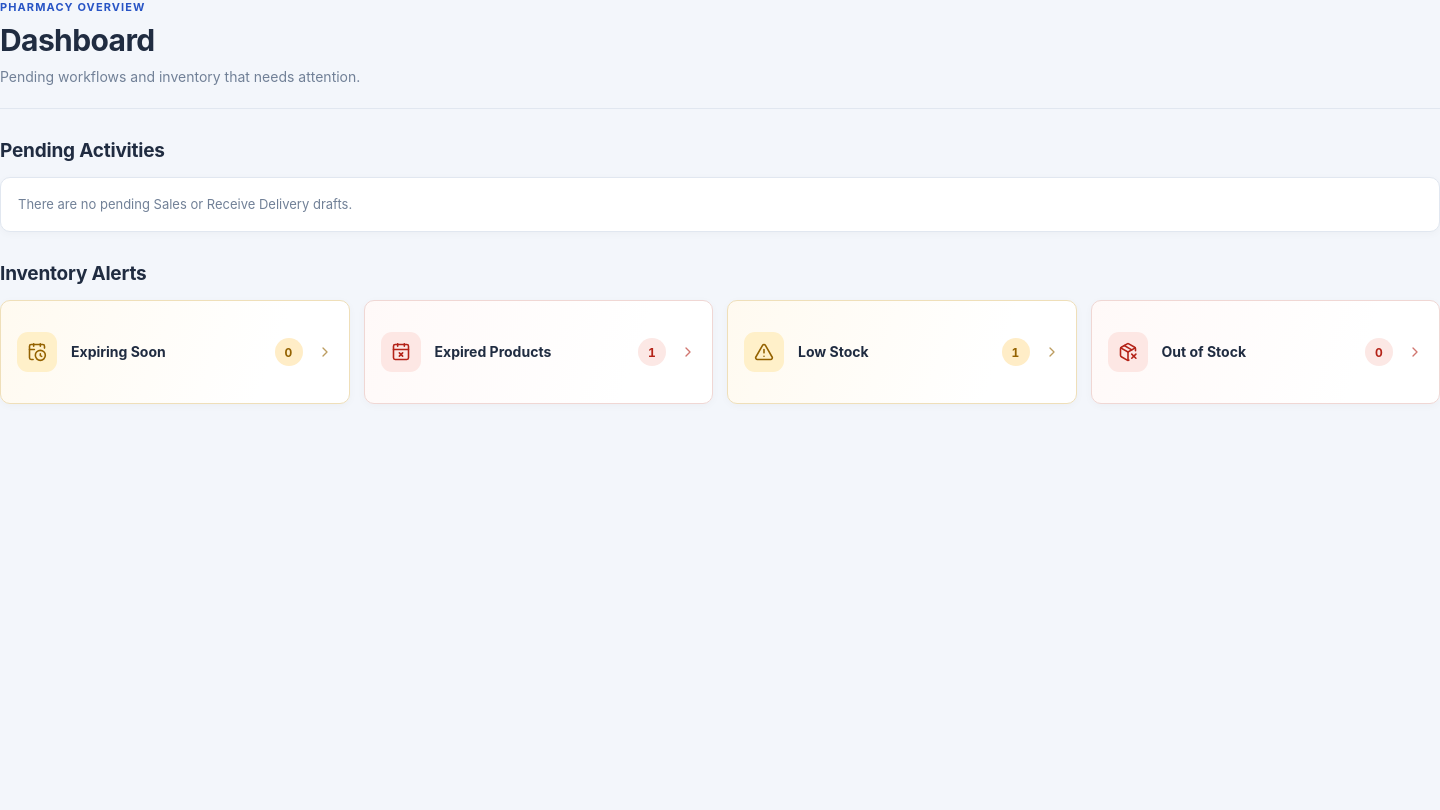
Test: Dashboard inventory alerts › keeps positive-stock expired batches eligible alongside zero-stock batches
Click the button with aria-label "Open Expired Products details, 1 affected product/variant". click: (538, 352)
box: x1=364 y1=300 x2=713 y2=404
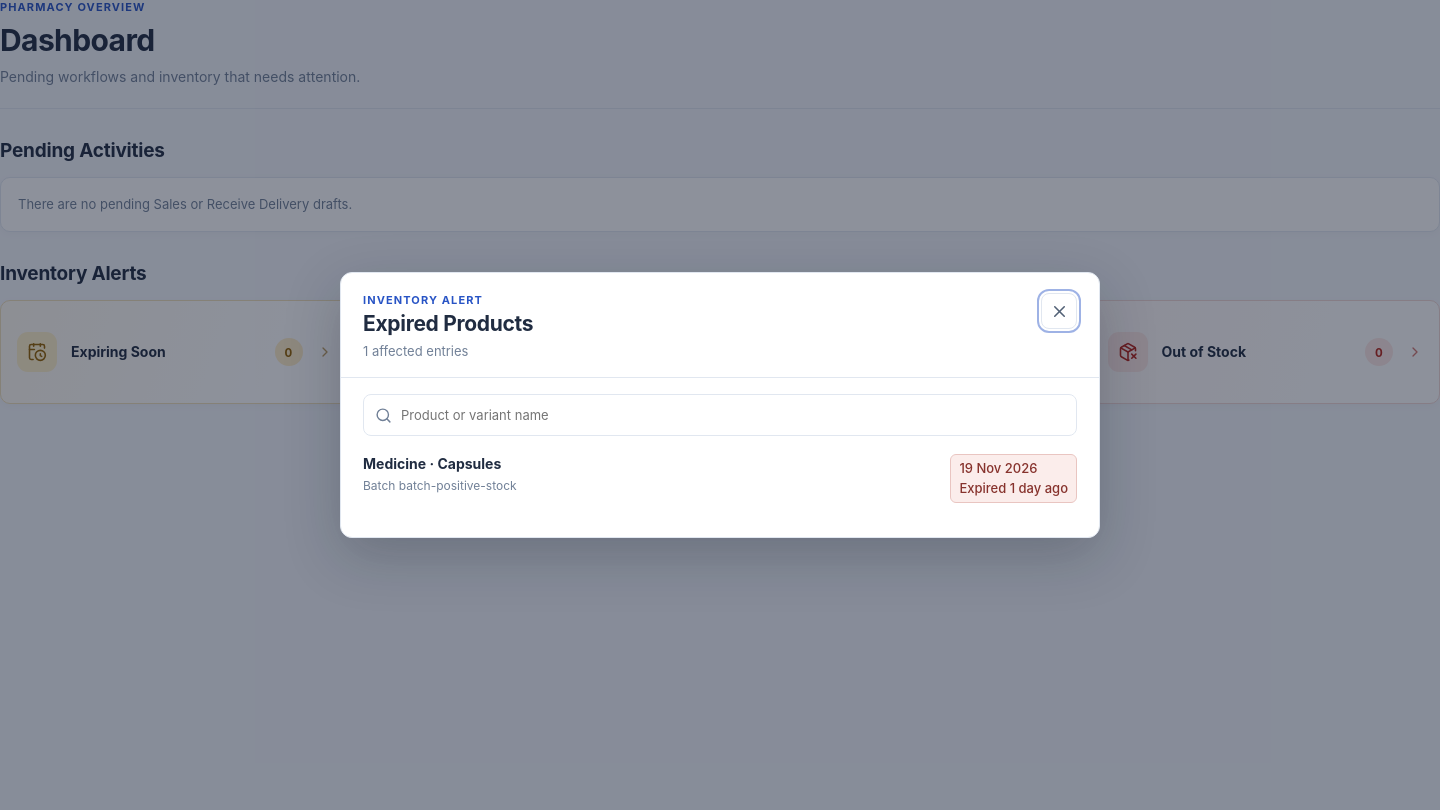
Result: the number of list items is 1 at x1=363 y1=440 x2=1077 y2=517
Result: the text "Batch batch-positive-stock" is shown at x1=363 y1=478 x2=517 y2=492
